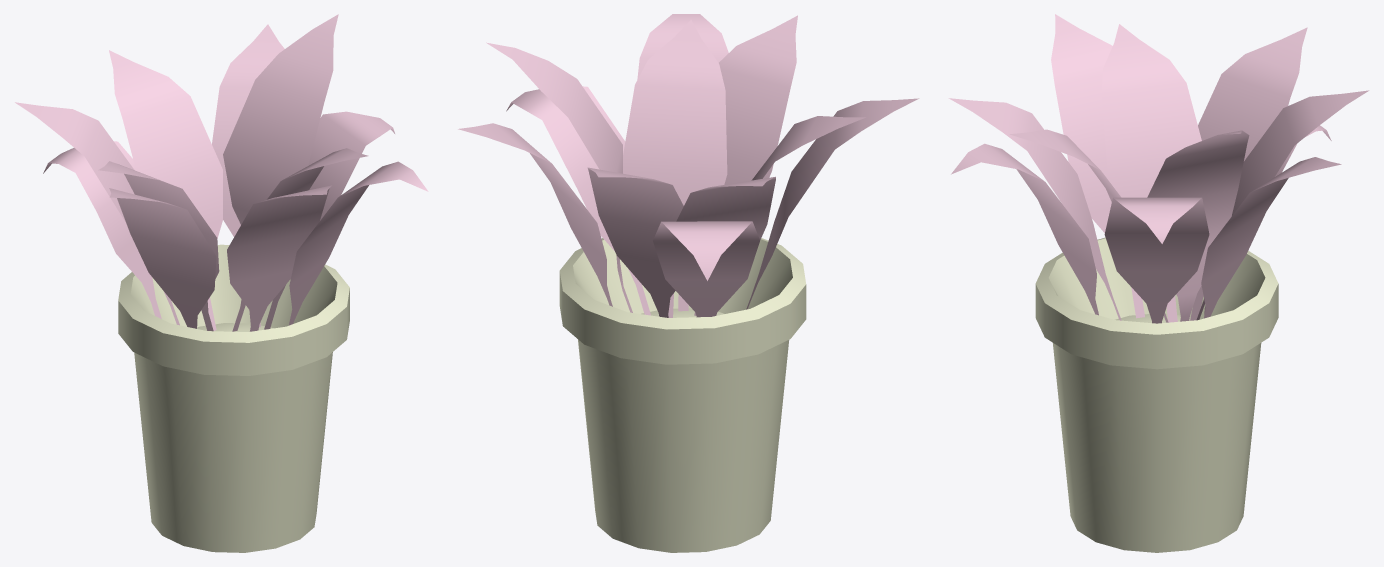
The model's file is pottedplant.fbx.
3 views of the same model, side by side, from view 1: azimuth 30°, elevation 25°; view 2: azimuth 150°, elevation 25°; view 3: azimuth 270°, elevation 25° (orthographic). The views are drawn at different scales.
Visible parts, largest first — view 1: pottedplant_Plant; view 2: pottedplant_Plant; view 3: pottedplant_Plant.
Part boxes in pixels (bbox=[...]): pottedplant_Plant: bbox=[15, 14, 428, 552]; pottedplant_Plant: bbox=[458, 14, 919, 552]; pottedplant_Plant: bbox=[948, 14, 1369, 552].
Size of the model in its own units: 3825 by 4758 by 3985.
